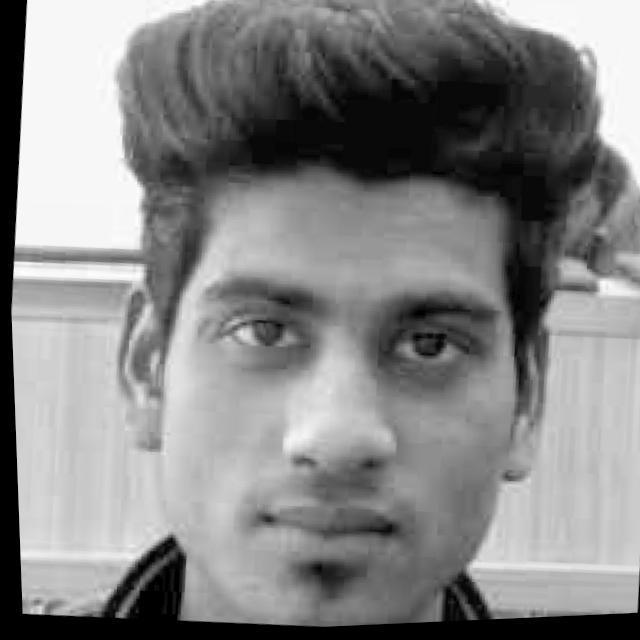puffy_eyes: (375, 338, 468, 400), (216, 350, 310, 373)
